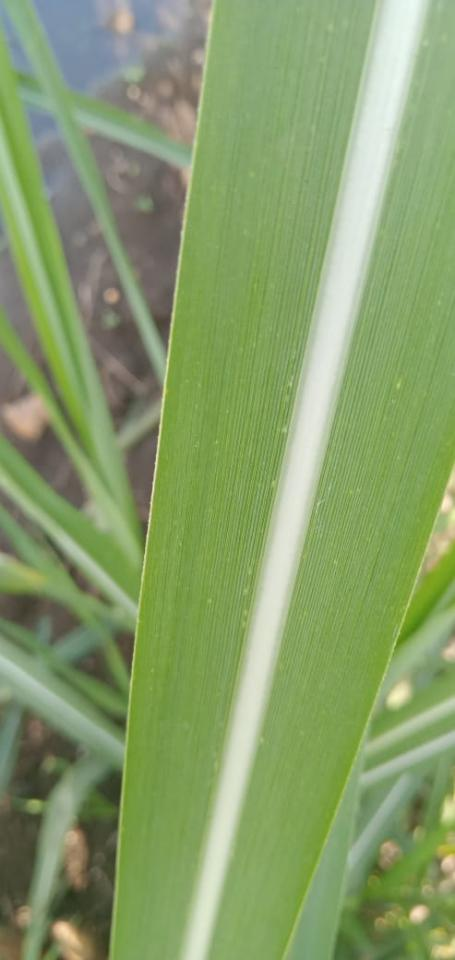Healthy: (110, 0, 375, 959), (209, 0, 454, 959)
